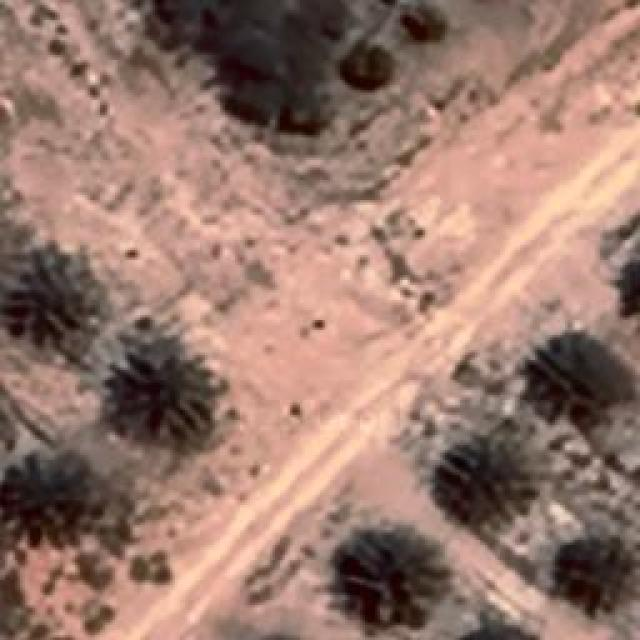PalmTree: (98, 23, 596, 571), (88, 90, 496, 629), (102, 332, 216, 440), (0, 438, 102, 551), (340, 535, 450, 630), (434, 435, 538, 530), (518, 334, 622, 418), (12, 260, 86, 350), (615, 240, 640, 328), (446, 623, 545, 640), (621, 244, 640, 330)
